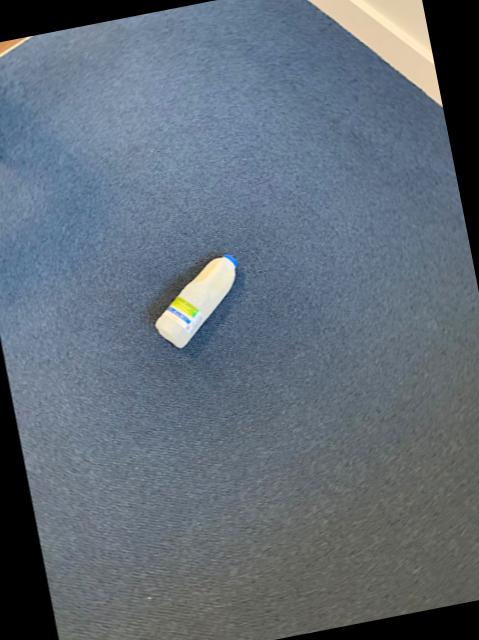plastic: (153, 255, 234, 348)
